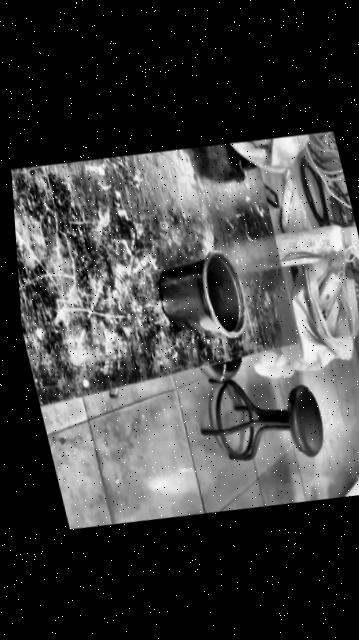pot: (149, 245, 250, 348)
